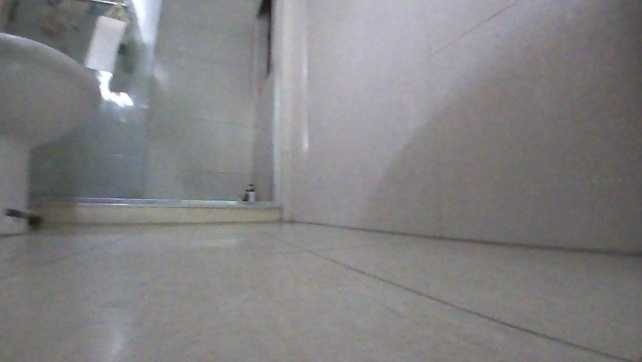toilet: (0, 24, 105, 237)
